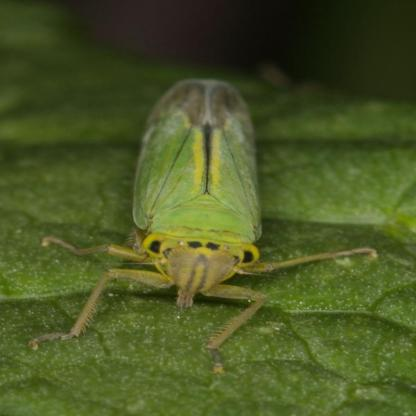Green-Leafhopper: (32, 73, 383, 350)
